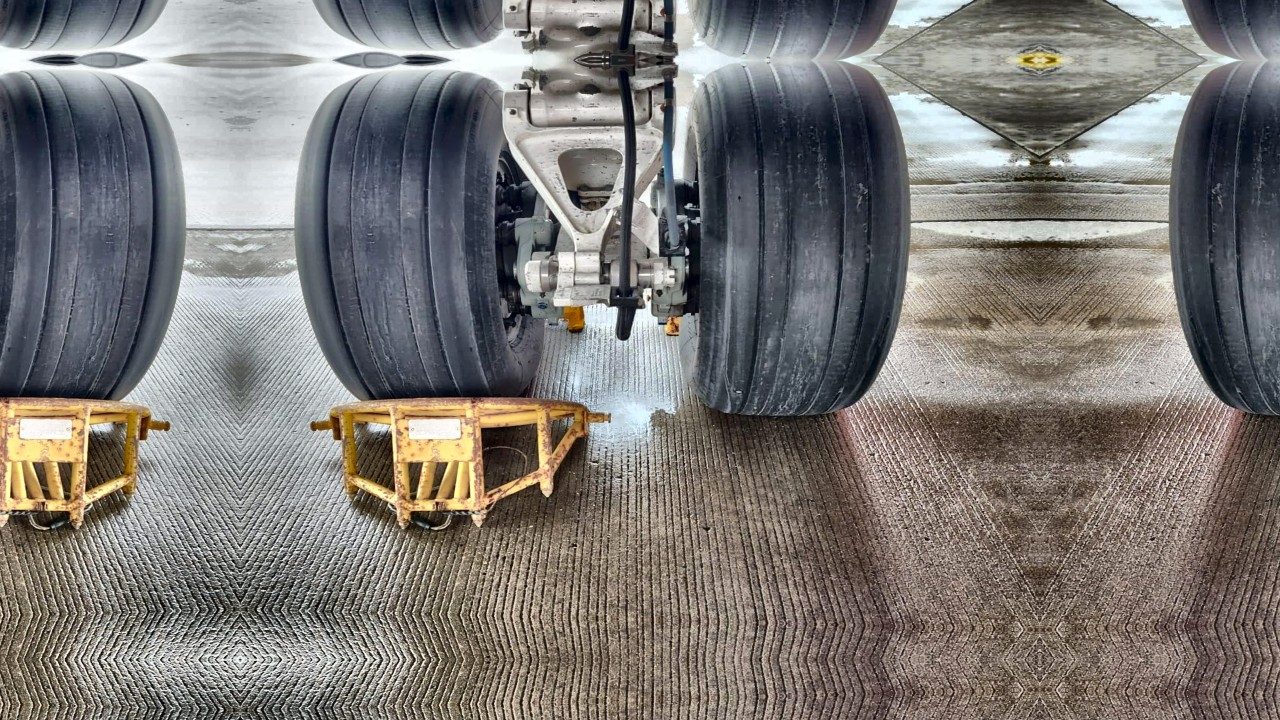chock: (298, 370, 629, 552), (0, 370, 182, 552)
wheel: (645, 60, 942, 440), (263, 60, 567, 414), (0, 60, 217, 414), (1138, 60, 1280, 440), (263, 0, 567, 60), (645, 0, 942, 60), (0, 0, 217, 60)
